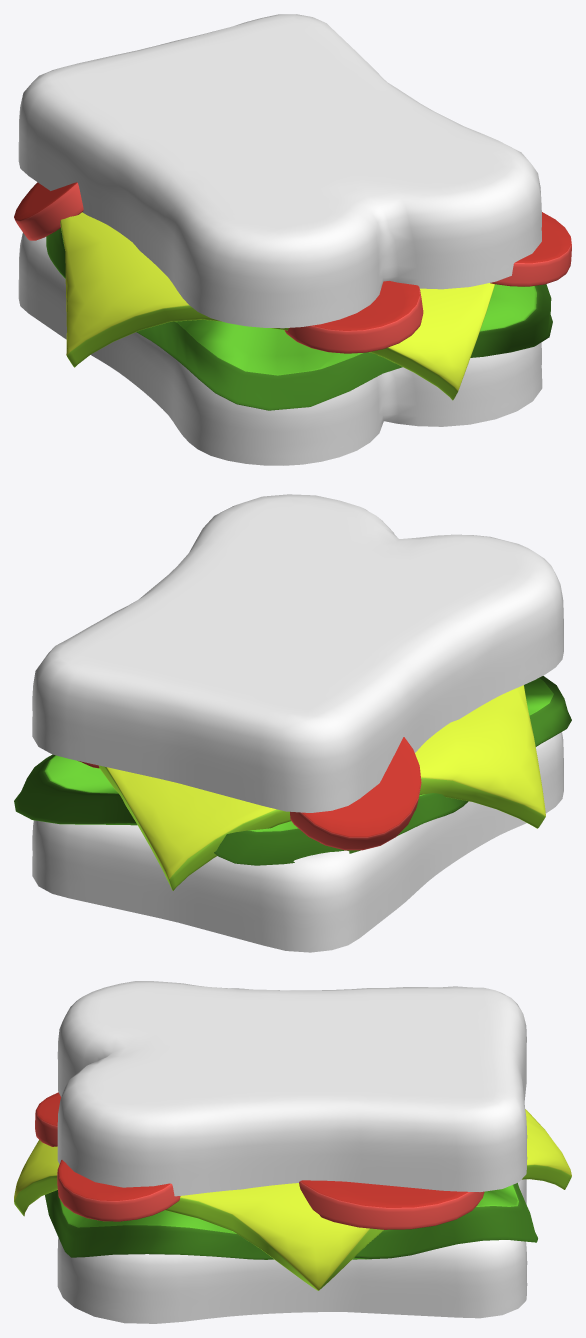
File: Sandwich.fbx
The picture shows the model from 3 angles, top to bottom: view 1: azimuth 30°, elevation 25°; view 2: azimuth 150°, elevation 25°; view 3: azimuth 270°, elevation 25°; orthographic projection. The views are drawn at different scales.
Parts seen in each view (by area): view 1: Sandwich; view 2: Sandwich; view 3: Sandwich.
Boxes of the visible parts, left/top/right/bottom form: Sandwich: left=14, top=14, right=571, bottom=465; Sandwich: left=14, top=494, right=571, bottom=952; Sandwich: left=14, top=981, right=571, bottom=1323.
Bounding box in the file's own units: 70.33 × 34.14 × 85.7.
Materials: 1 (1 with a texture image).
